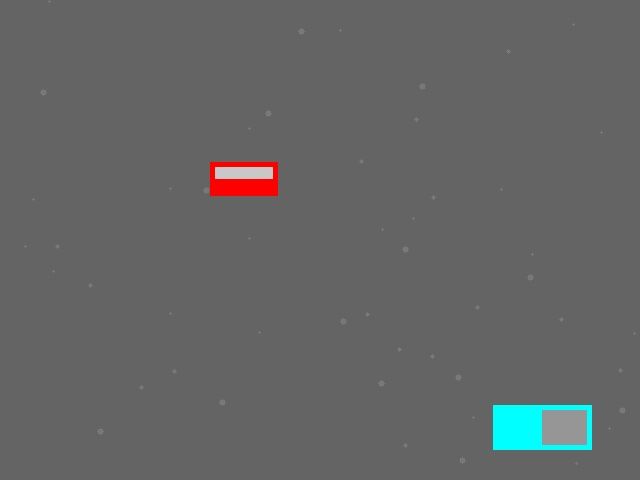car: (210, 162, 277, 195)
truck: (493, 405, 591, 449)
